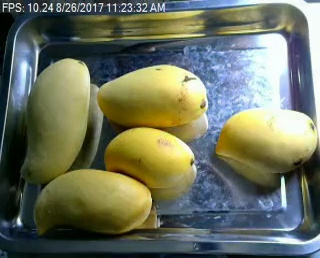Mango: (18, 58, 90, 184), (33, 168, 152, 236), (97, 65, 208, 127), (215, 107, 317, 171), (105, 126, 195, 189)
